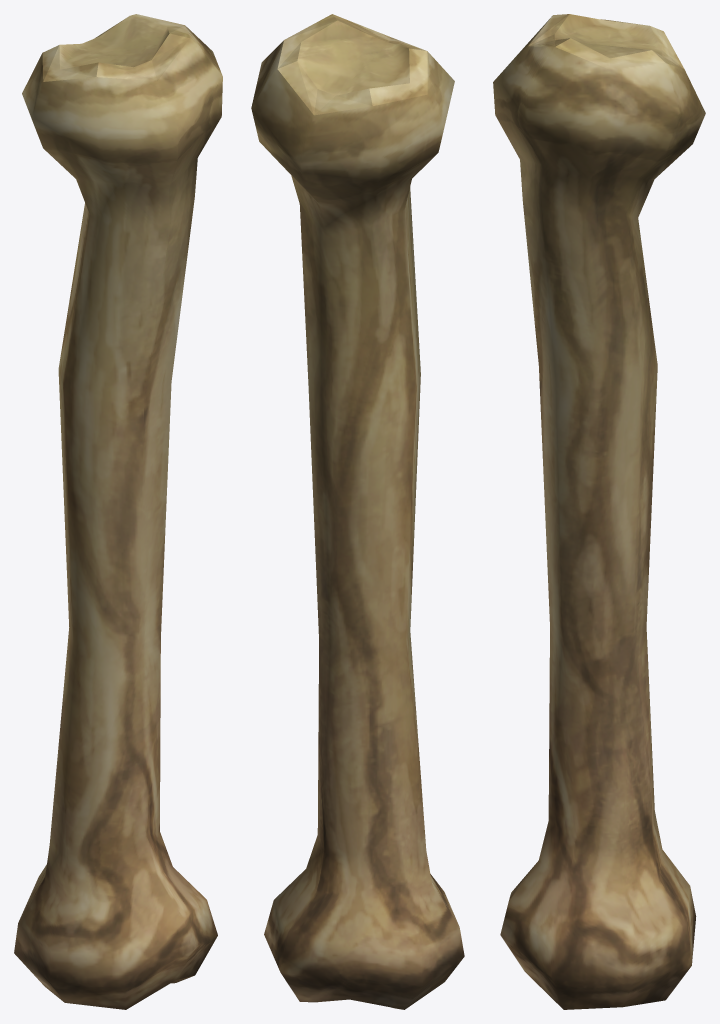
File: bone.FBX
3 views of the same model, side by side, from view 1: azimuth 30°, elevation 25°; view 2: azimuth 150°, elevation 25°; view 3: azimuth 270°, elevation 25° (orthographic). The views are drawn at different scales.
Parts seen in each view (by area): view 1: Object003; view 2: Object003; view 3: Object003.
Part boxes in pixels (left/top/right/bottom): Object003: left=14, top=14, right=222, bottom=1009; Object003: left=251, top=14, right=464, bottom=1009; Object003: left=493, top=14, right=705, bottom=1009.
Bounding box in the file's own units: 0.68 × 3.38 × 0.6714.
